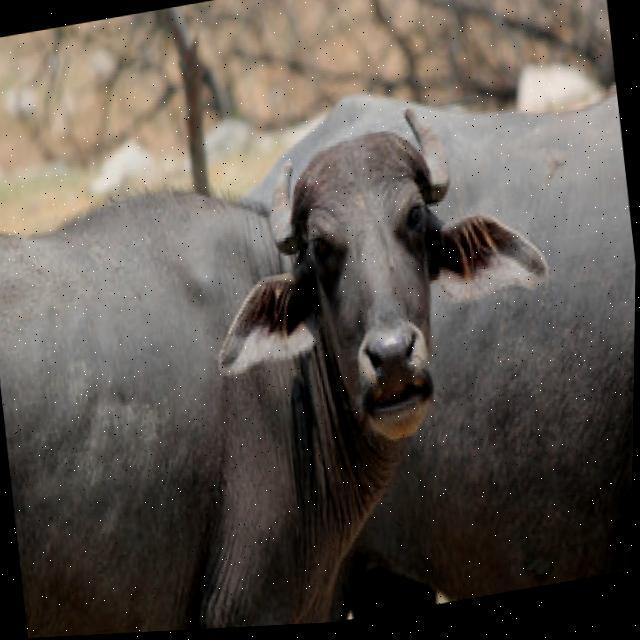Buffalo: (0, 82, 586, 640)
